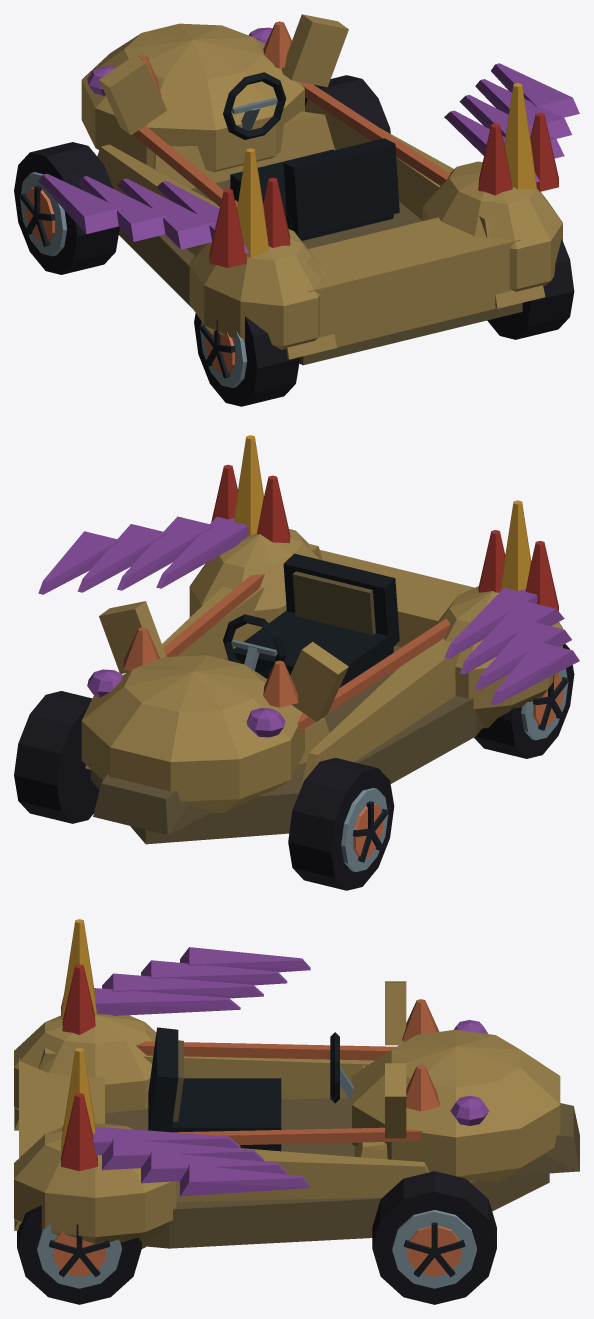
Rendered from kart.glb.
The picture shows the model from 3 angles, top to bottom: view 1: azimuth 30°, elevation 25°; view 2: azimuth 150°, elevation 25°; view 3: azimuth 270°, elevation 25°; orthographic projection.
Visible parts, largest first — view 1: identity-beast-beast-sculpted-prow-and-haunches, identity-beast-motif-wings-feather, identity-beast-driver-cockpit, identity-beast-motif-fire, wheel-front-left, wheel-rear-left, wheel-rear-right, wheel-front-right; view 2: identity-beast-beast-sculpted-prow-and-haunches, identity-beast-motif-wings-feather, identity-beast-driver-cockpit, wheel-front-left, identity-beast-motif-fire, wheel-front-right, wheel-rear-left; view 3: identity-beast-beast-sculpted-prow-and-haunches, identity-beast-motif-wings-feather, wheel-front-right, identity-beast-driver-cockpit, wheel-rear-right, identity-beast-motif-fire.
Boxes of the visible parts, <box> form: identity-beast-beast-sculpted-prow-and-haunches: <box>81,14,562,365</box>; identity-beast-motif-wings-feather: <box>38,63,579,253</box>; identity-beast-driver-cockpit: <box>223,72,399,240</box>; identity-beast-motif-fire: <box>209,83,558,267</box>; wheel-front-left: <box>14,142,119,274</box>; wheel-rear-left: <box>194,313,299,406</box>; wheel-rear-right: <box>487,239,574,339</box>; wheel-front-right: <box>305,75,390,133</box>; identity-beast-beast-sculpted-prow-and-haunches: <box>81,529,562,844</box>; identity-beast-motif-wings-feather: <box>38,516,579,704</box>; identity-beast-driver-cockpit: <box>223,553,399,687</box>; wheel-front-left: <box>288,758,394,890</box>; identity-beast-motif-fire: <box>211,435,558,611</box>; wheel-front-right: <box>14,691,99,823</box>; wheel-rear-left: <box>474,644,574,758</box>; identity-beast-beast-sculpted-prow-and-haunches: <box>14,981,579,1248</box>; identity-beast-motif-wings-feather: <box>63,947,310,1196</box>; wheel-front-right: <box>372,1171,496,1304</box>; identity-beast-driver-cockpit: <box>148,1027,353,1151</box>; wheel-rear-right: <box>17,1205,141,1304</box>; identity-beast-motif-fire: <box>61,919,97,1171</box>.
Bounding box in the file's own units: 2.88 × 1.37 × 2.9.
